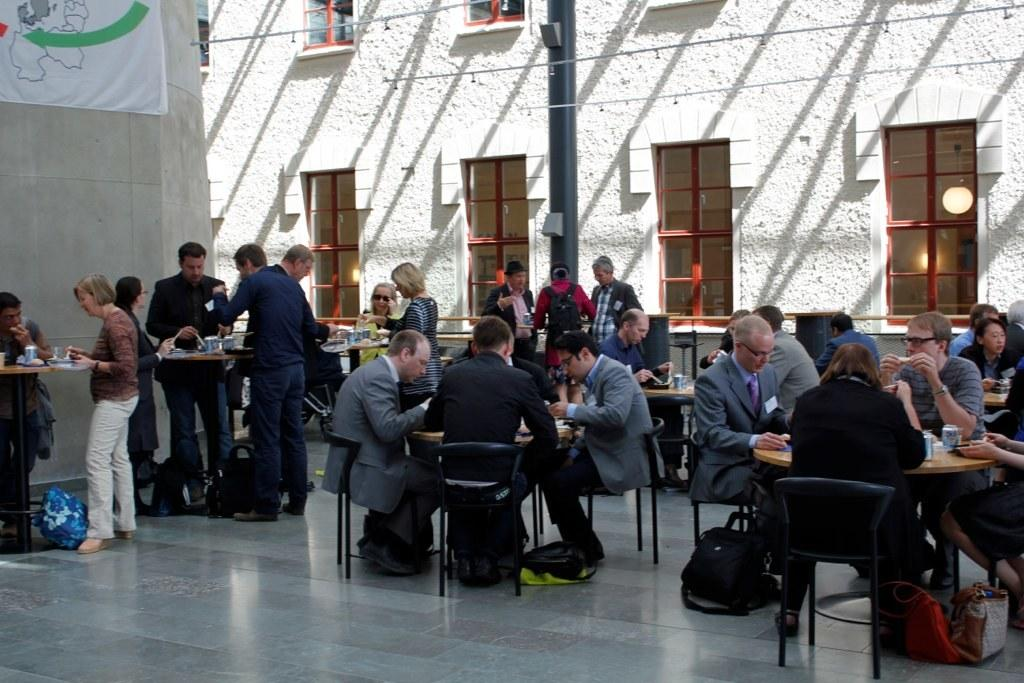Luggage-and-bags: (679, 509, 777, 616), (32, 484, 89, 550)
